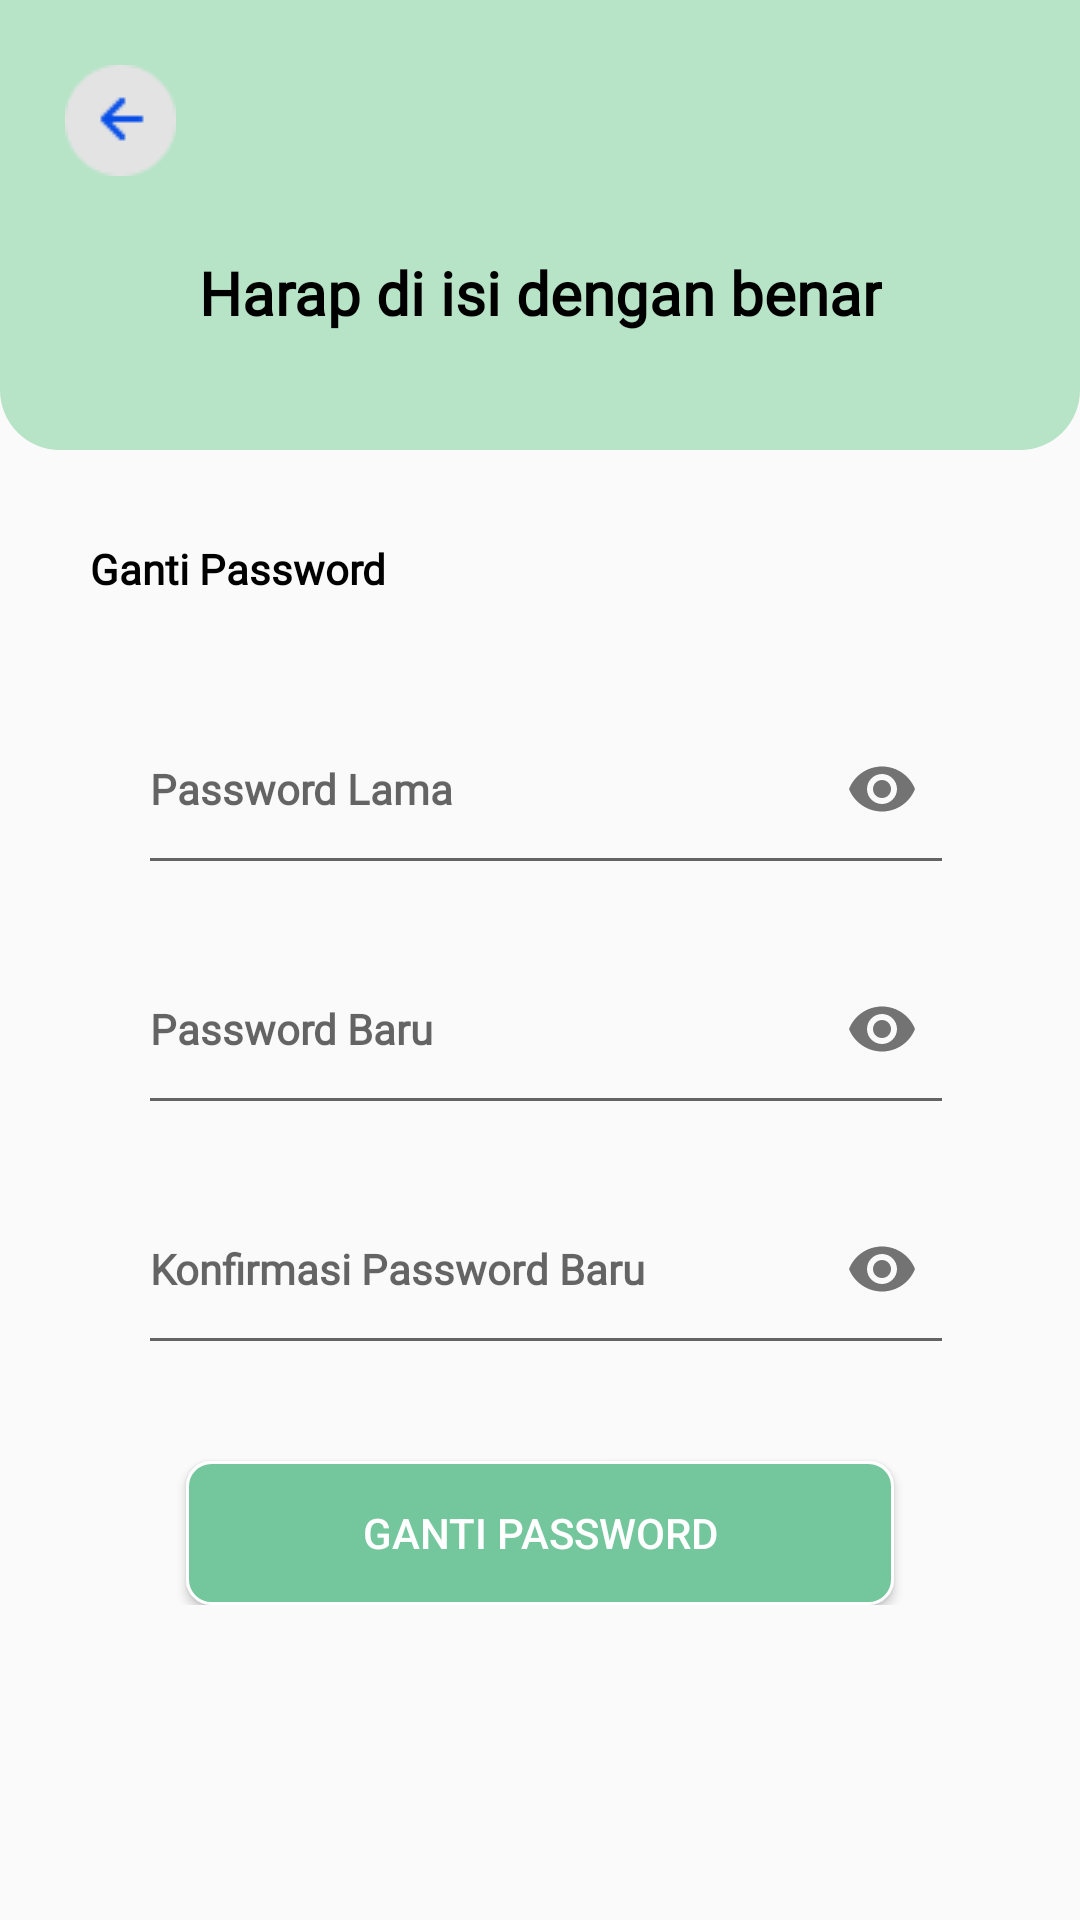

Point at icon controls on the screen. Image size 1080 x 1920, points as (x,y).
kembali: (120,120)
